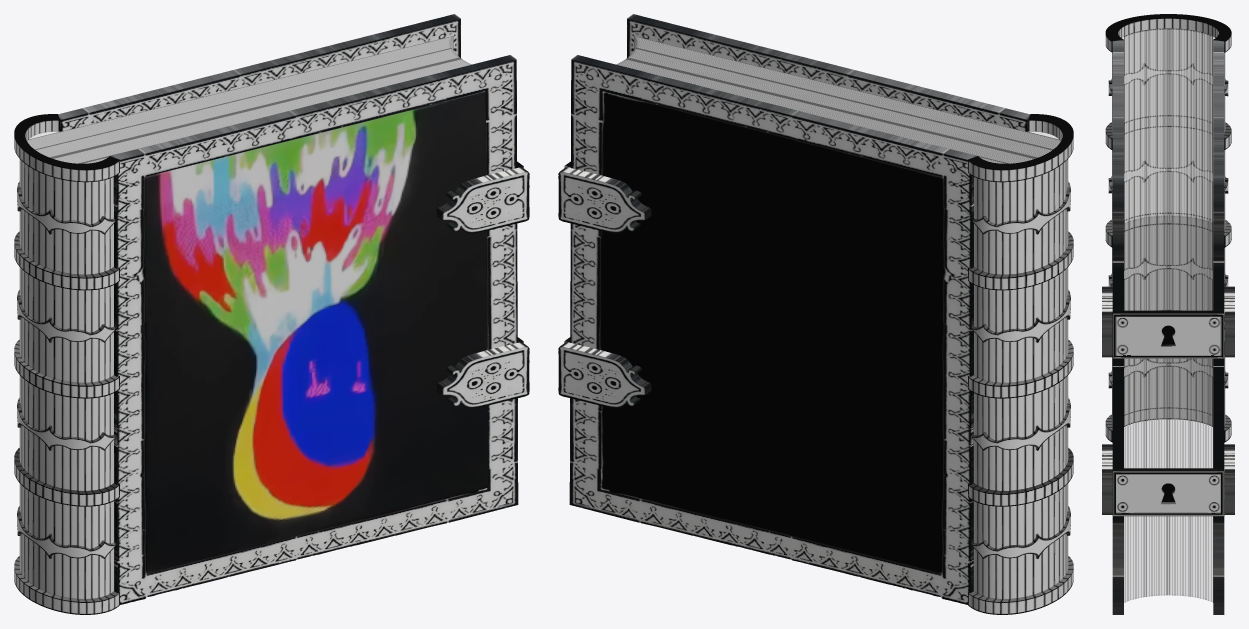
Rendered from botr.glb.
3 renders of one model, left to right at view 1: azimuth 30°, elevation 25°; view 2: azimuth 150°, elevation 25°; view 3: azimuth 270°, elevation 25°, orthographic. The views are drawn at different scales.
Parts seen in each view (by area): view 1: bookoftruth, BOTR _Side.001, BOTR_Front, BOTR_Front.001, BOTR_Front.002, BOTR_Front.003; view 2: BOTR_Front.001, BOTR _Side.001, BOTR_Front, BOTR_Front.007, BOTR_Front.006; view 3: BOTR _Side.001, BOTR_Front.001, BOTR_Front, BOTR_Lock, BOTR_Lock.001, BOTR_Page.039, BOTR_Page.059, BOTR_Page.075, BOTR_Page.084, BOTR_Page.093, BOTR_Page.048, BOTR_Page.068 (+98 smaller).
Part boxes in pixels (box(x1,y1,x2,y2)): bookoftruth: box(144, 91, 487, 572); BOTR _Side.001: box(14, 114, 119, 614); BOTR_Front: box(110, 55, 518, 604); BOTR_Front.001: box(58, 14, 460, 131); BOTR_Front.002: box(436, 167, 529, 233); BOTR_Front.003: box(436, 342, 529, 408); BOTR_Front.001: box(569, 55, 977, 604); BOTR _Side.001: box(968, 114, 1073, 614); BOTR_Front: box(627, 14, 1029, 131); BOTR_Front.007: box(558, 342, 651, 408); BOTR_Front.006: box(558, 167, 651, 233); BOTR _Side.001: box(1105, 14, 1231, 442); BOTR_Front.001: box(1213, 40, 1224, 614); BOTR_Front: box(1112, 40, 1123, 614); BOTR_Lock: box(1112, 310, 1224, 358); BOTR_Lock.001: box(1112, 468, 1224, 516); BOTR_Page.039: box(1135, 32, 1136, 598); BOTR_Page.059: box(1189, 30, 1190, 596); BOTR_Page.075: box(1182, 29, 1183, 595); BOTR_Page.084: box(1158, 29, 1159, 595); BOTR_Page.093: box(1174, 29, 1175, 595); BOTR_Page.048: box(1197, 31, 1198, 597); BOTR_Page.068: box(1151, 29, 1152, 595).
Bounding box in the file's own units: 1.09 × 1.01 × 0.2999.
113 materials, 113 textured.
